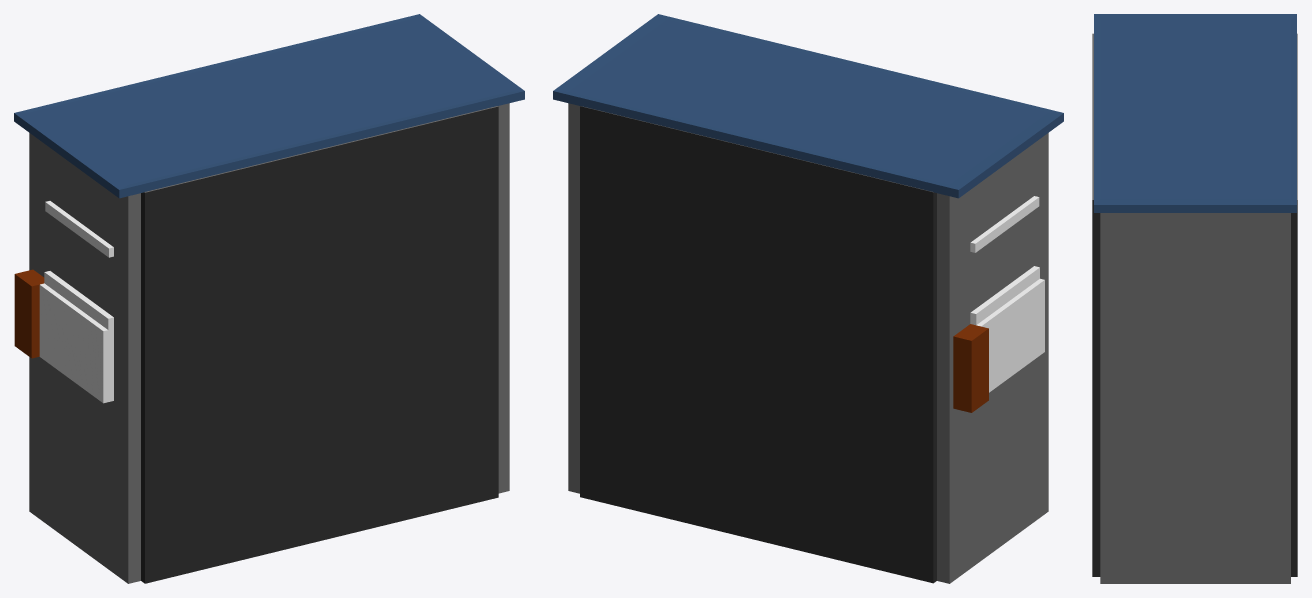
3 views of the same model, side by side, from view 1: azimuth 30°, elevation 25°; view 2: azimuth 150°, elevation 25°; view 3: azimuth 270°, elevation 25° (orthographic). The views are drawn at different scales.
Parts seen in each view (by area): view 1: Cube; view 2: Cube; view 3: Cube.
Boxes of the visible parts, box(x1,y1,x2,y2) form: Cube: box(14, 14, 524, 583); Cube: box(553, 14, 1063, 583); Cube: box(1092, 14, 1297, 583).
Size of the model in its own units: 216 by 200 by 96.67.
